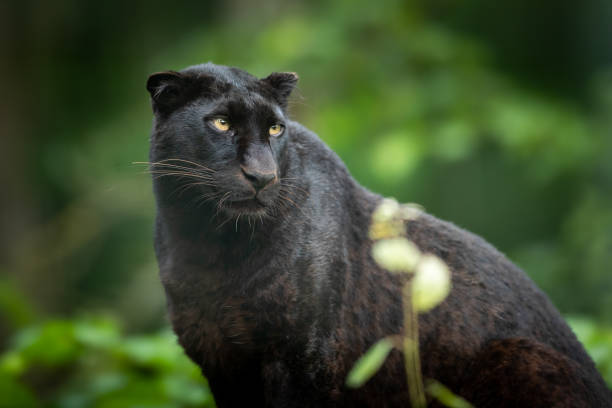panther: (127, 56, 317, 234)
